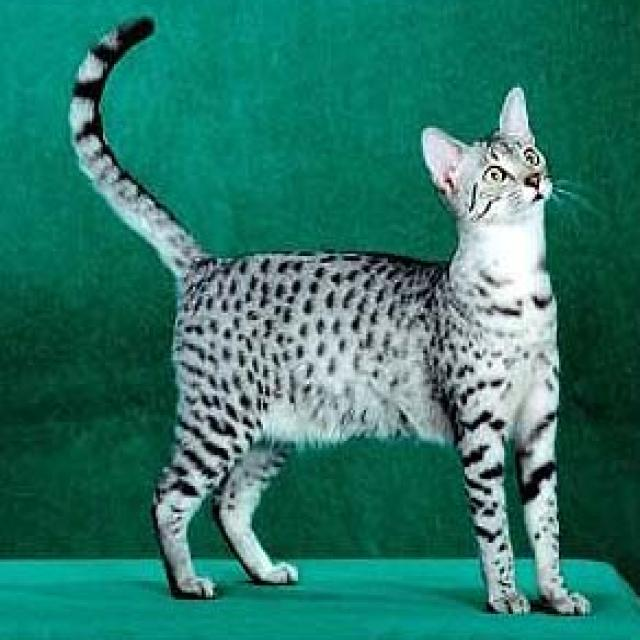Egyptian Mau: (65, 12, 598, 621)
